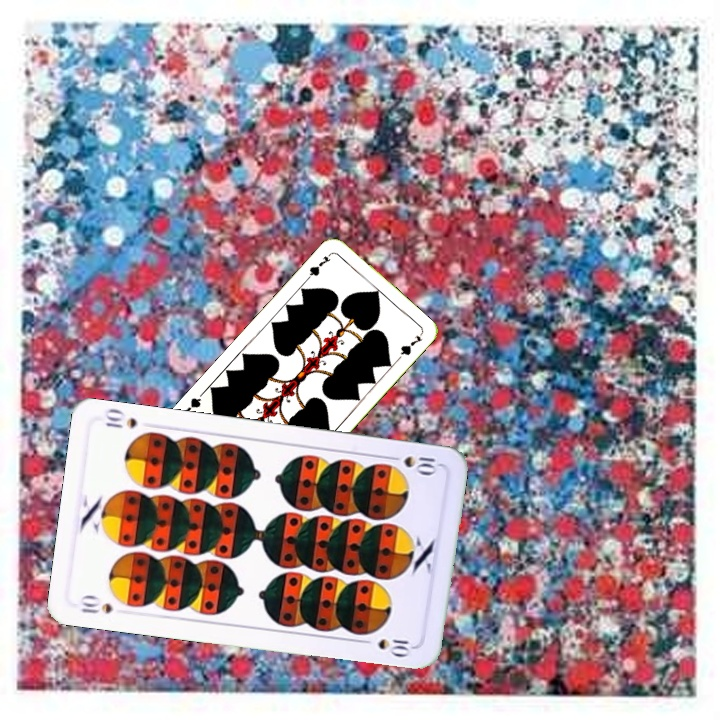G7: (303, 249, 334, 282)
S10: (383, 452, 438, 477), (77, 591, 116, 616)
